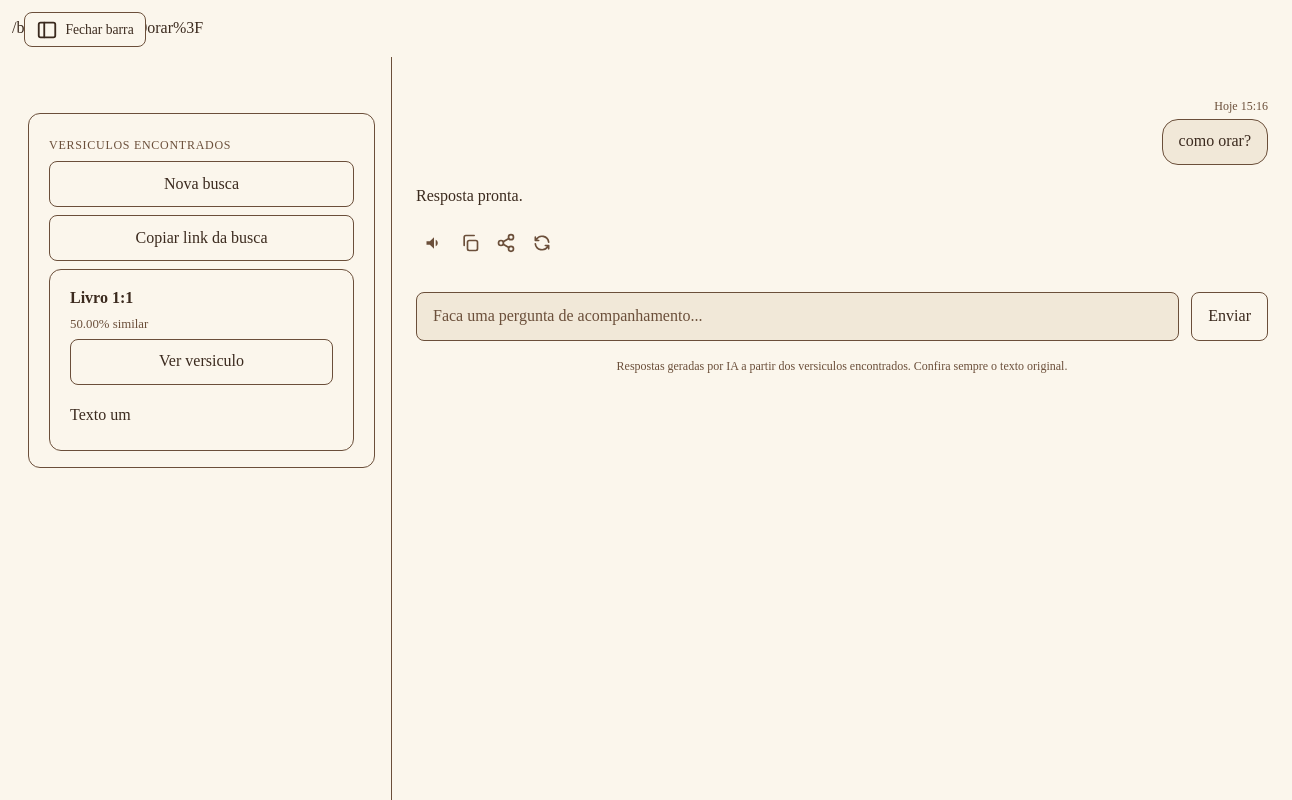
it: endereco da busca › Nova busca volta para / e limpa a conversa guardada
Expected: the text "Resposta pronta." is shown, [416,187,523,204]
Click the button "Nova busca" at (202, 184), box [49,161,354,207]
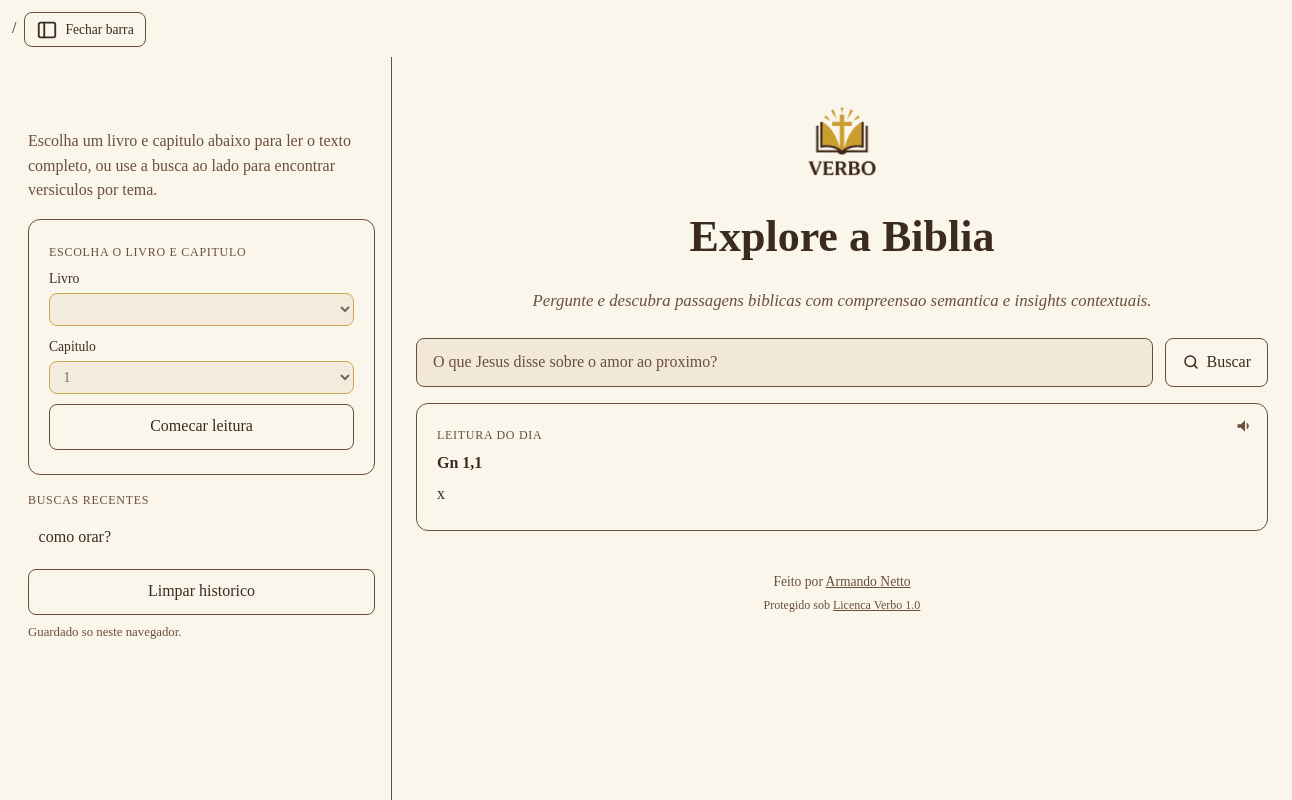
Expected: the text with test id "endereco" reads "/", [12,19,16,36]
Result: the field named "Qual e a sua pergunta?" is shown at [416,338,1153,387]
